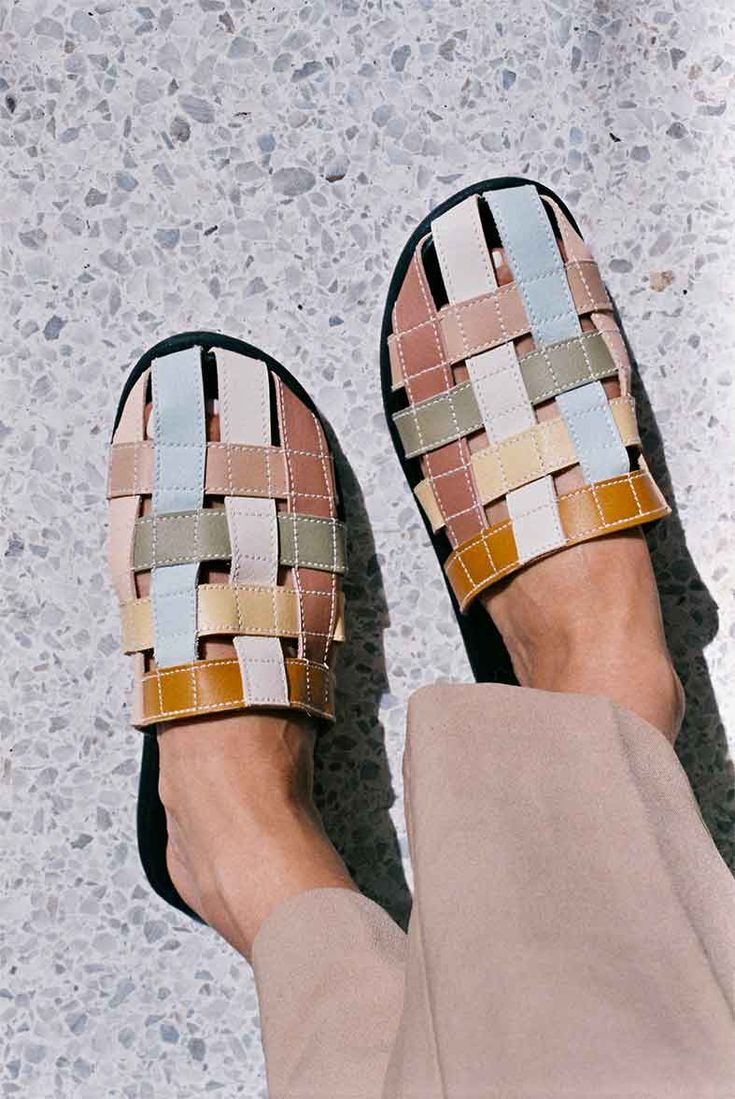cuero: (108, 179, 675, 736)
